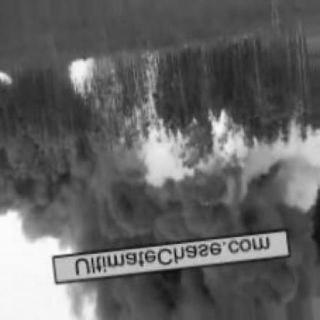Fire: (69, 49, 167, 139), (135, 114, 241, 184), (0, 66, 26, 94)
Smoke: (45, 188, 293, 316)
